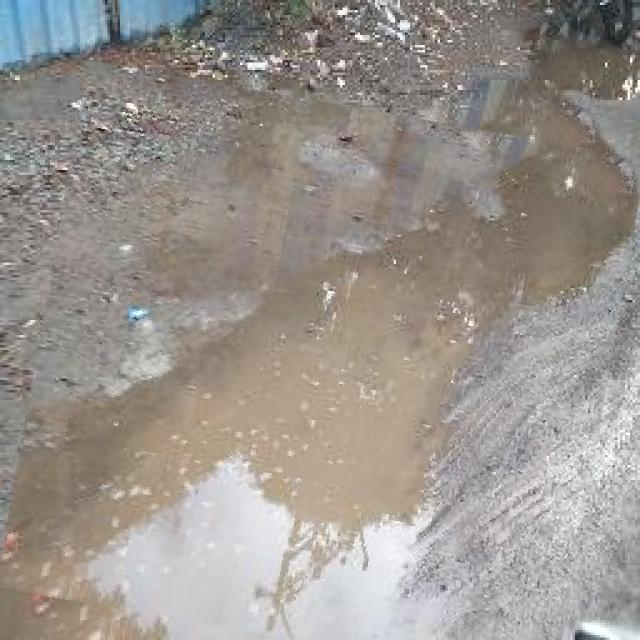puddle: (17, 83, 626, 640)
